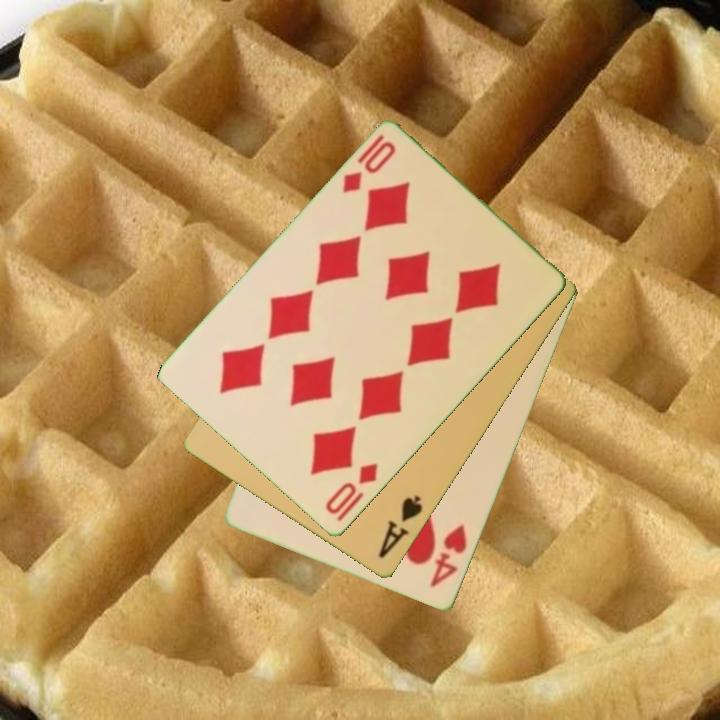10d: (339, 138, 399, 197), (322, 460, 381, 518)
4h: (427, 521, 470, 592)
As: (375, 492, 426, 562)
